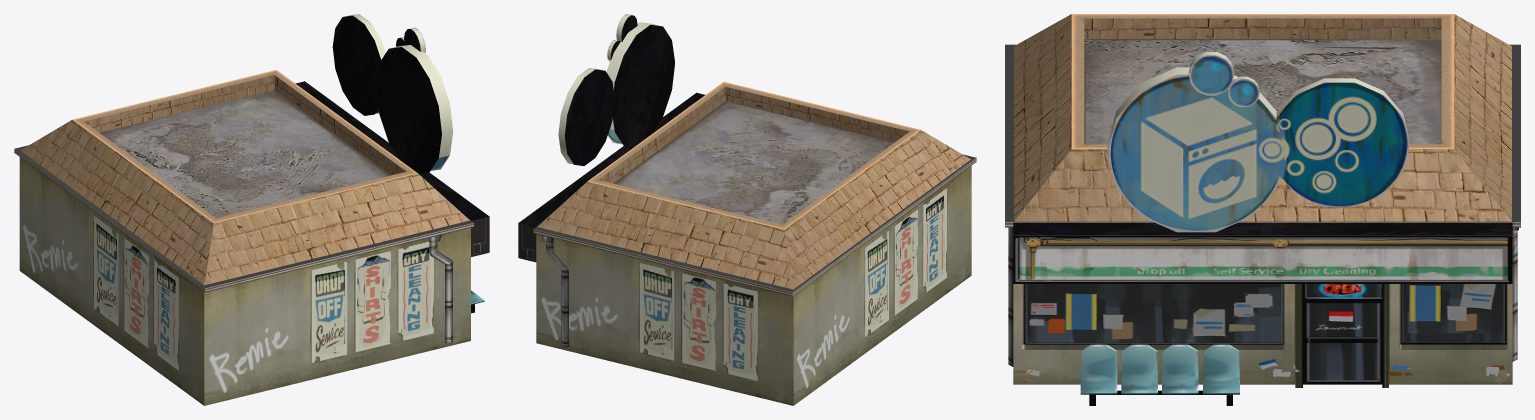
File: Dry_Clean_Shop.fbx
The picture shows the model from 3 angles, left to right: view 1: azimuth 30°, elevation 25°; view 2: azimuth 150°, elevation 25°; view 3: azimuth 270°, elevation 25°; orthographic projection. The views are drawn at different scales.
Visible parts, largest first — view 1: Dry_Clean_Shop; view 2: Dry_Clean_Shop; view 3: Dry_Clean_Shop.
Part boxes in pixels (bbox=[...]): Dry_Clean_Shop: bbox=[14, 14, 489, 405]; Dry_Clean_Shop: bbox=[518, 14, 976, 405]; Dry_Clean_Shop: bbox=[1005, 14, 1520, 405].
Size of the model in its own units: 346 by 273 by 372.
Materials: 1 (1 with a texture image).
